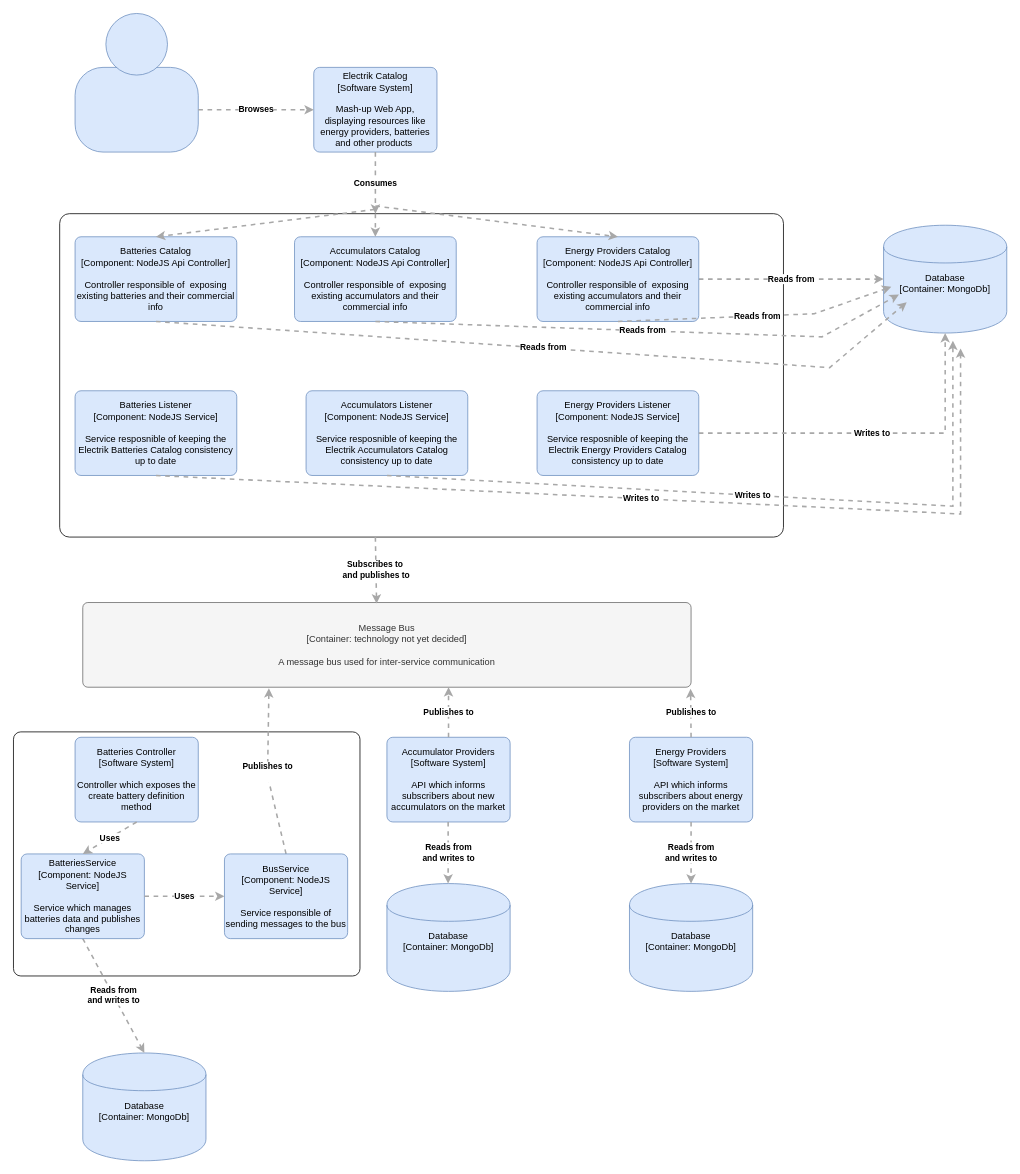
Some shapes in this 1020 by 1174 pixel diagram are drawn without their labels. The box of each missing label's shape, as (x1, y1, x2, y2) in pixels:
Battery providers: (13, 731, 360, 976)
Customer [Person]: (74, 67, 198, 152)
Electrik API: (59, 213, 783, 537)
